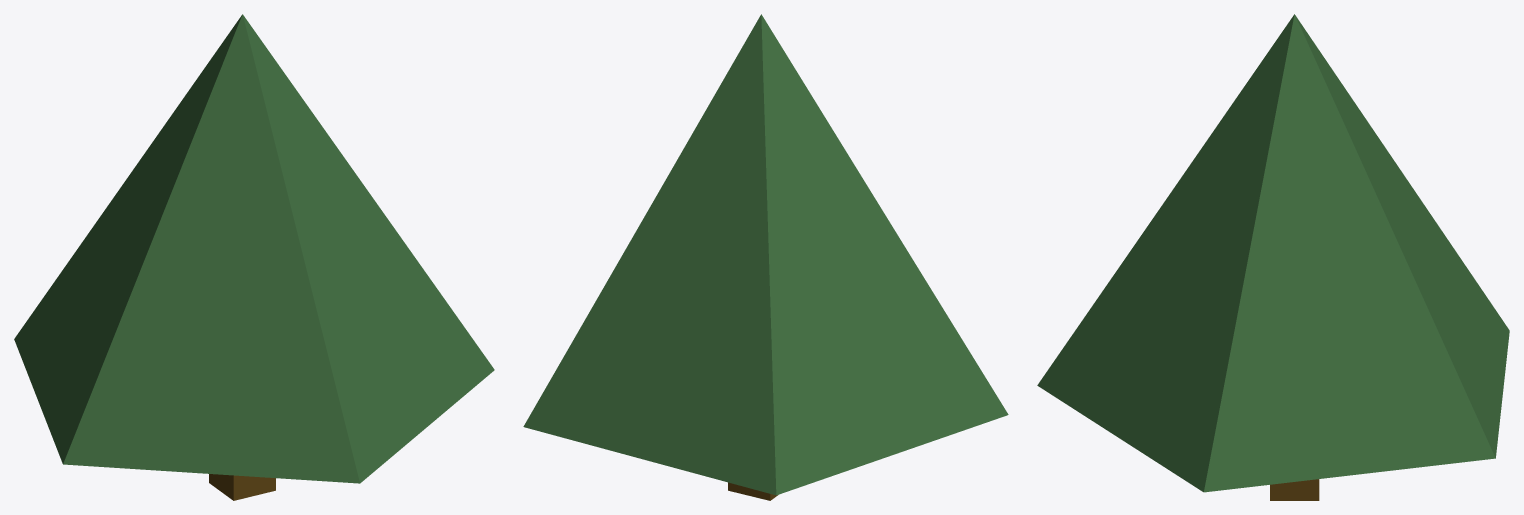
The model's file is tree_01.fbx.
3 views of the same model, side by side, from view 1: azimuth 30°, elevation 25°; view 2: azimuth 150°, elevation 25°; view 3: azimuth 270°, elevation 25° (orthographic).
Parts seen in each view (by area): view 1: Cube.002; view 2: Cube.002; view 3: Cube.002.
Part boxes in pixels (x1,y1,x2,y2): Cube.002: [14, 14, 494, 500]; Cube.002: [523, 14, 1008, 500]; Cube.002: [1037, 14, 1509, 500].
Size of the model in its own units: 495 by 532 by 478.
